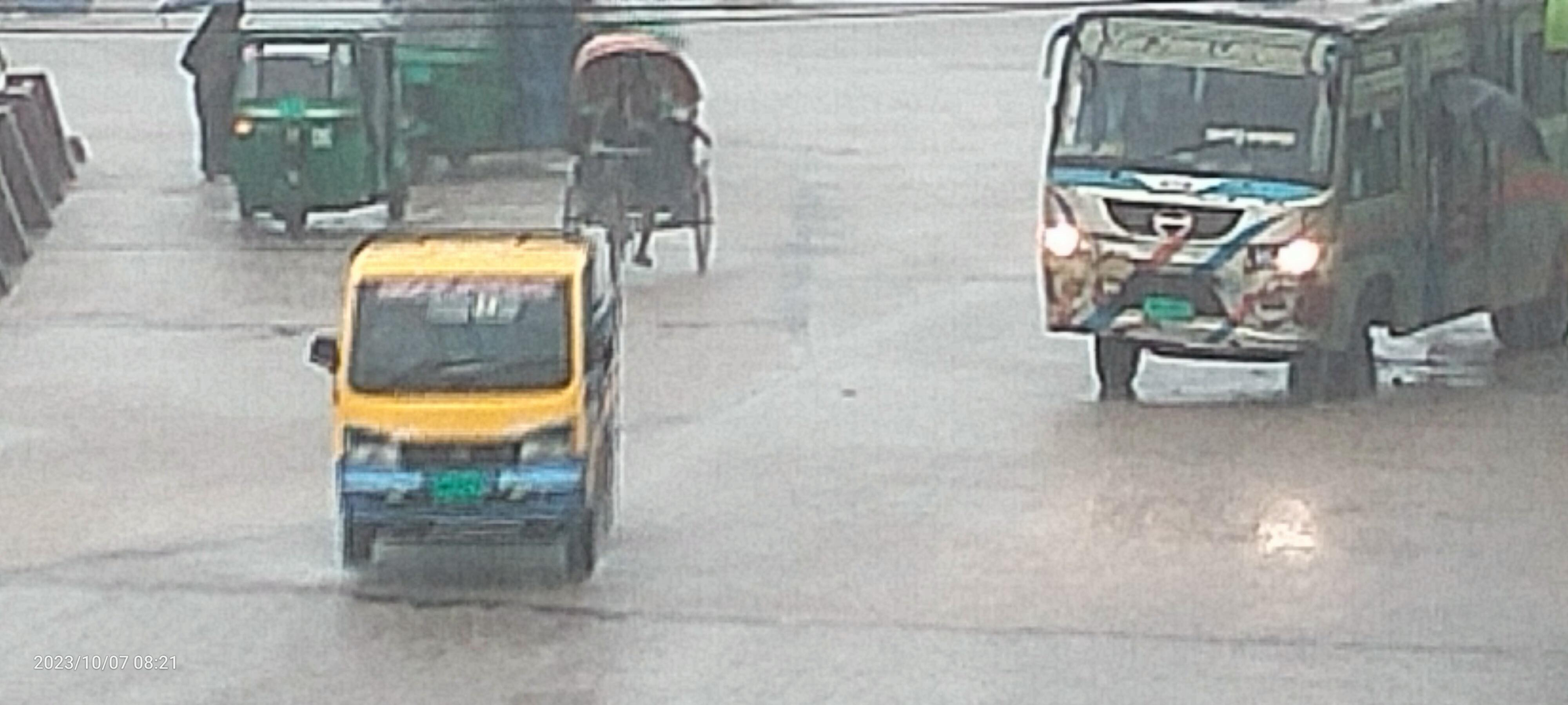Bus: (983, 9, 1568, 476)
Car: (536, 17, 737, 302)
Truck: (227, 191, 676, 641)
